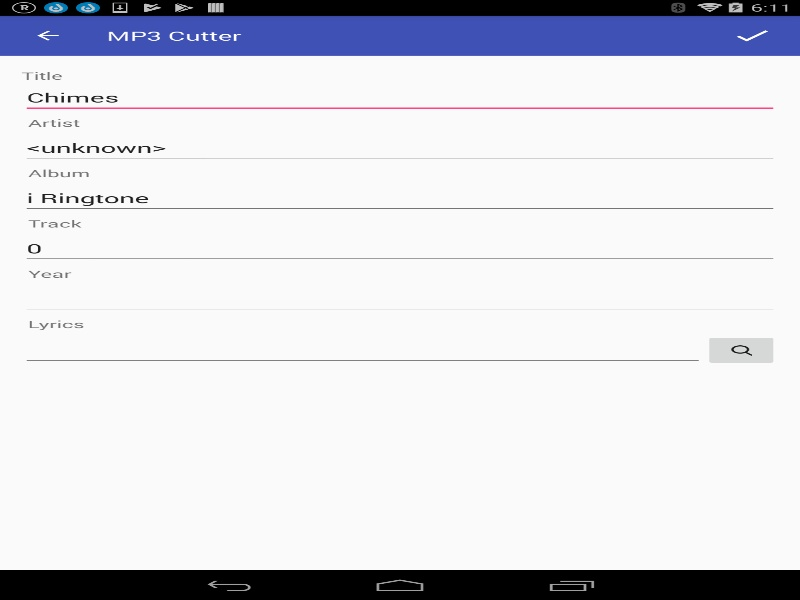Button: (10, 15, 85, 55), (704, 334, 778, 366)
Input: (21, 82, 778, 113), (21, 132, 778, 163), (21, 233, 778, 264), (21, 283, 778, 314), (21, 183, 778, 213), (21, 335, 704, 365)
